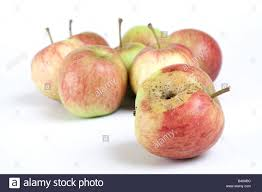apple: (64, 52, 129, 116), (30, 44, 97, 100), (130, 46, 193, 90)
damaged_apple: (131, 70, 232, 158)
